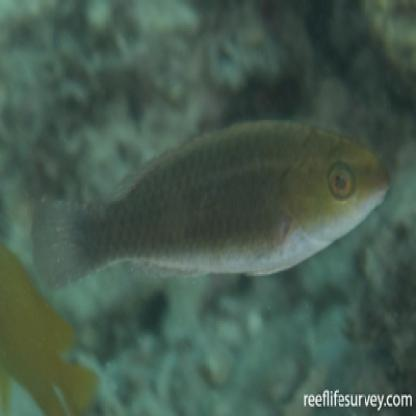Scaridae -Parrotfishes-: (30, 116, 392, 300)
